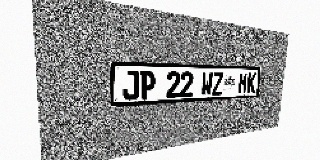2: (166, 71, 181, 98), (180, 71, 194, 97)
J: (123, 70, 139, 100)
K: (246, 72, 256, 93)
M: (238, 72, 248, 94)
P: (140, 71, 156, 99)
W: (201, 72, 213, 96)
Z: (212, 72, 224, 95)
